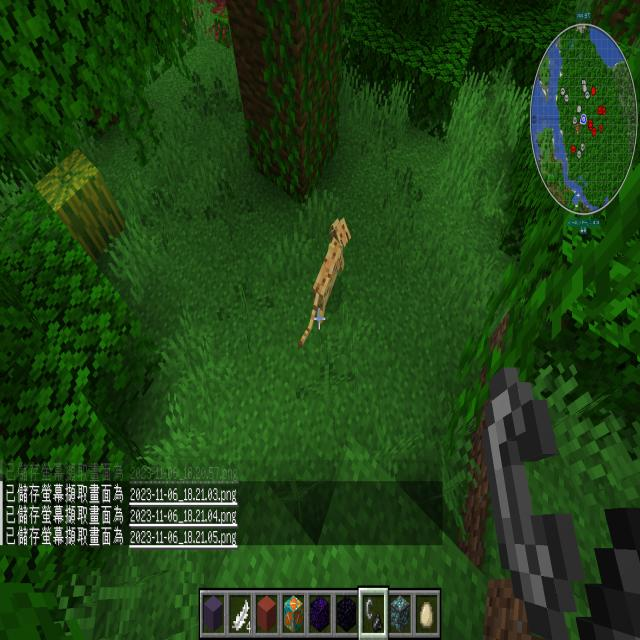Ocelot: (291, 210, 357, 354)
